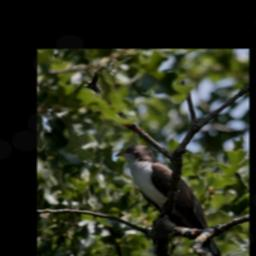Cuckoo: (114, 144, 235, 256)
